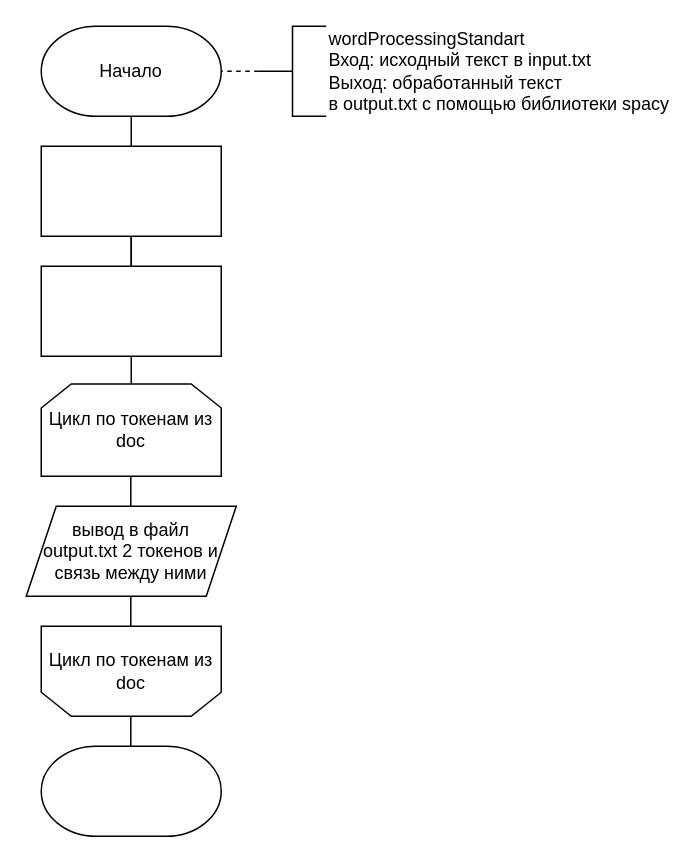
Image size: 696x863. Some labels were removed from this diagram. The shapes that lost their labels are listed below. From the top down, each one's box as (x1, y1, x2, y2) in pixels, then its label:
(40, 145, 221, 236): text = текст из файла input.txt
(40, 265, 221, 356): обработка текста doc = nlp(text)
(40, 745, 221, 836): Конец
